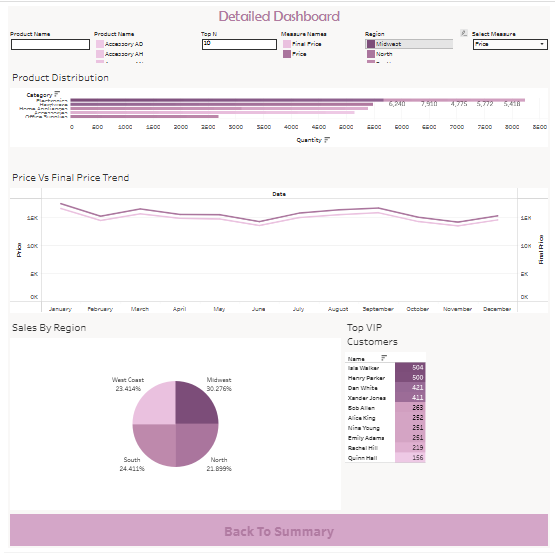

The page's visual inventory and layout, read from the dashboard file:
{"tool":"tableau","page":{"name":"Detailed Dashboard","canvas":[1100,1100],"ordinal":0},"visuals":[{"type":"text","box":[8,8,1084,41]},{"type":"filter","title":"Product Distribution","param":"[federated.0hplp1i17qelo71c1ko0k0abbict].[none:Product_Name:nk]","box":[8,49,168,75]},{"type":"legend","title":"Product Distribution","param":"[federated.0hplp1i17qelo71c1ko0k0abbict].[none:Product_Name:nk]","box":[176,49,214,75]},{"type":"parameter","param":"[Parameters].[Parameter 0743308286435331]","box":[390,49,160,75]},{"type":"legend","title":"Price Vs Final Price Trend","param":"[federated.0hplp1i17qelo71c1ko0k0abbict].[:Measure Names]","box":[550,49,168,75]},{"type":"legend","title":"Sales By Region","param":"[federated.0hplp1i17qelo71c1ko0k0abbict].[none:Region:nk]","box":[718,49,214,75]},{"type":"parameter","param":"[Parameters].[Parameter 0743308286816260]","box":[932,49,160,75]},{"type":"worksheet","title":"Product Distribution","mark":"Automatic","rows":["Category"],"cols":["Quantity"],"box":[8,124,1084,185]},{"type":"worksheet","title":"Price Vs Final Price Trend","mark":"Automatic","rows":["Price","Calculation_0743308285763584"],"cols":["Date"],"box":[8,324,1084,300]},{"type":"worksheet","title":"Sales By Region","mark":"Pie","box":[8,624,670,396]},{"type":"worksheet","title":"Top VIP Customers","mark":"Square","rows":["Name"],"box":[678,624,414,396]},{"type":"dashboard-object","box":[8,1020,1084,72]}]}

Visuals, with their boxes in screenshot pixels (x1, y1, x2, y2), scaled from the page's 1100x1100 canvas onto the 555x553 screenshot:
text: [4, 4, 551, 25]
"Product Distribution" filter: [4, 25, 89, 62]
"Product Distribution" legend: [89, 25, 197, 62]
parameter: [197, 25, 278, 62]
"Price Vs Final Price Trend" legend: [278, 25, 362, 62]
"Sales By Region" legend: [362, 25, 470, 62]
parameter: [470, 25, 551, 62]
"Product Distribution" worksheet: [4, 62, 551, 155]
"Price Vs Final Price Trend" worksheet: [4, 163, 551, 314]
"Sales By Region" worksheet (Pie marks): [4, 314, 342, 513]
"Top VIP Customers" worksheet (Square marks): [342, 314, 551, 513]
dashboard-object: [4, 513, 551, 549]
